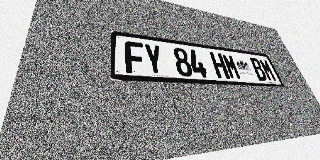4: (187, 49, 208, 78)
8: (172, 47, 194, 77)
B: (249, 57, 269, 81)
F: (124, 41, 146, 74)
H: (209, 52, 230, 79)
M: (221, 54, 242, 80), (258, 58, 278, 82)
Y: (143, 43, 165, 75)
